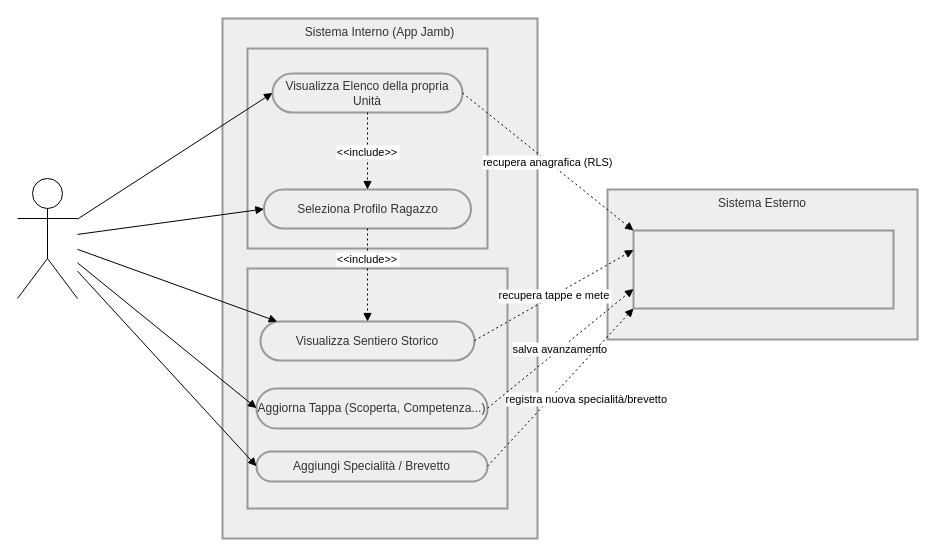
The diagram is 936 pixels wide and 556 high, and some of its shapes have lost their labels. The box of each missing label's shape, as (x1, y1, x2, y2) in pixels:
Capo: (16, 178, 78, 298)
Gestione Progressione Personale: (246, 267, 508, 509)
Navigazione Unità: (246, 47, 488, 249)
Supabase (Database + PowerSync): (632, 229, 894, 309)
